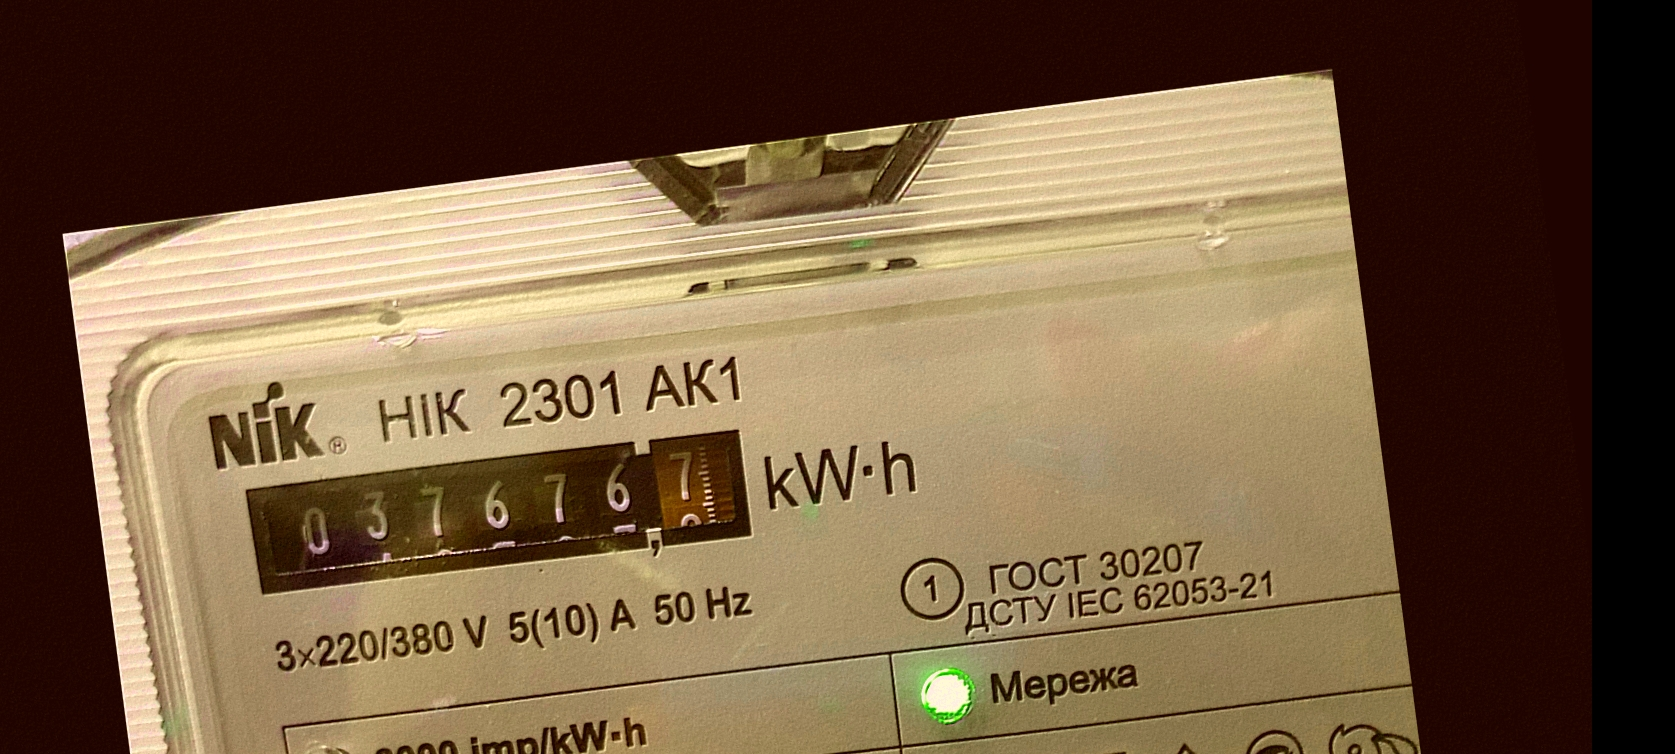0: (296, 500, 336, 559)
3: (358, 485, 392, 544)
6: (476, 474, 515, 532), (599, 458, 635, 516)
7: (414, 480, 453, 540), (538, 468, 576, 529), (666, 446, 700, 505)
screen: (228, 406, 771, 621)
